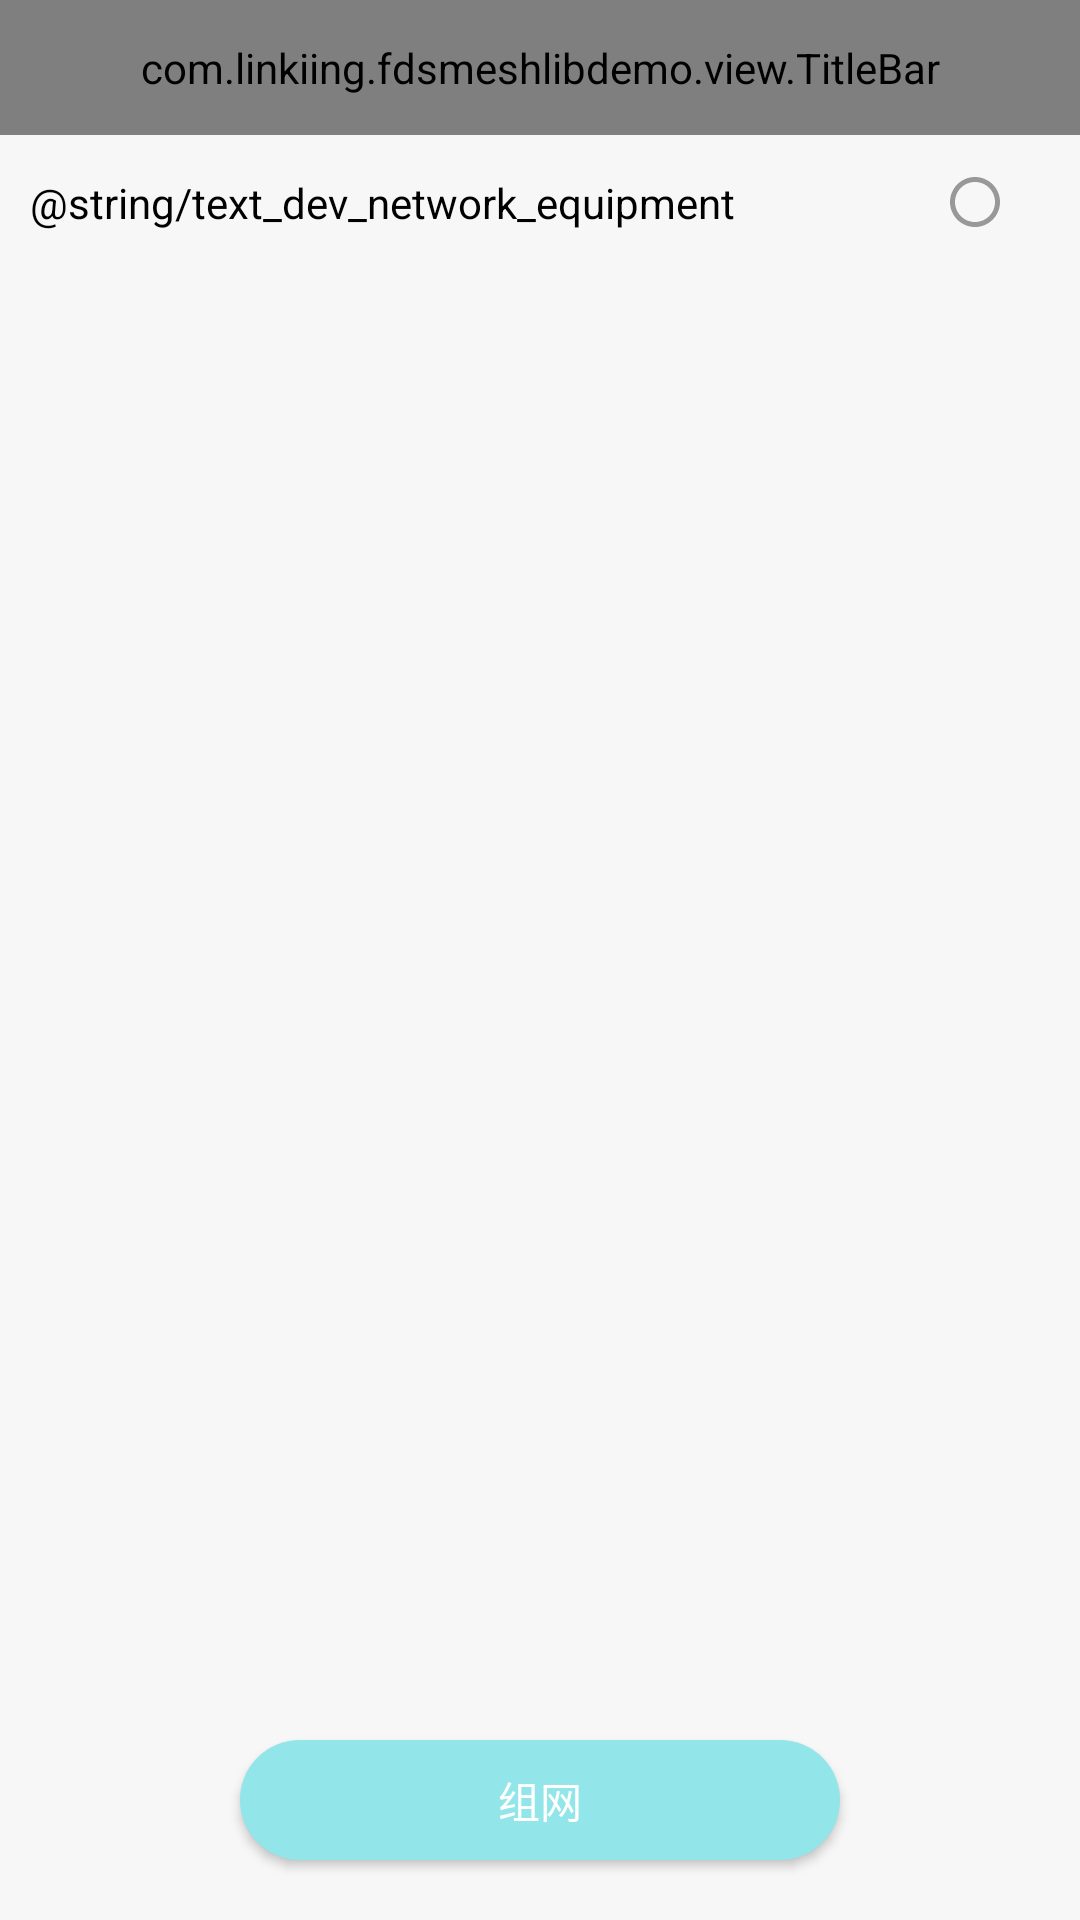

Named icons in this screenshot (1080 × 1920) and their centers, (x=x, y=y):
checked off: (x=975, y=202)
